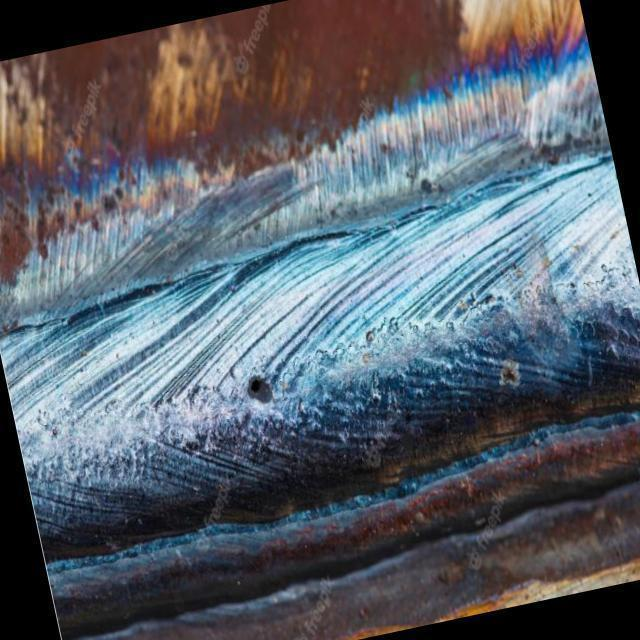defect: (239, 370, 279, 411)
